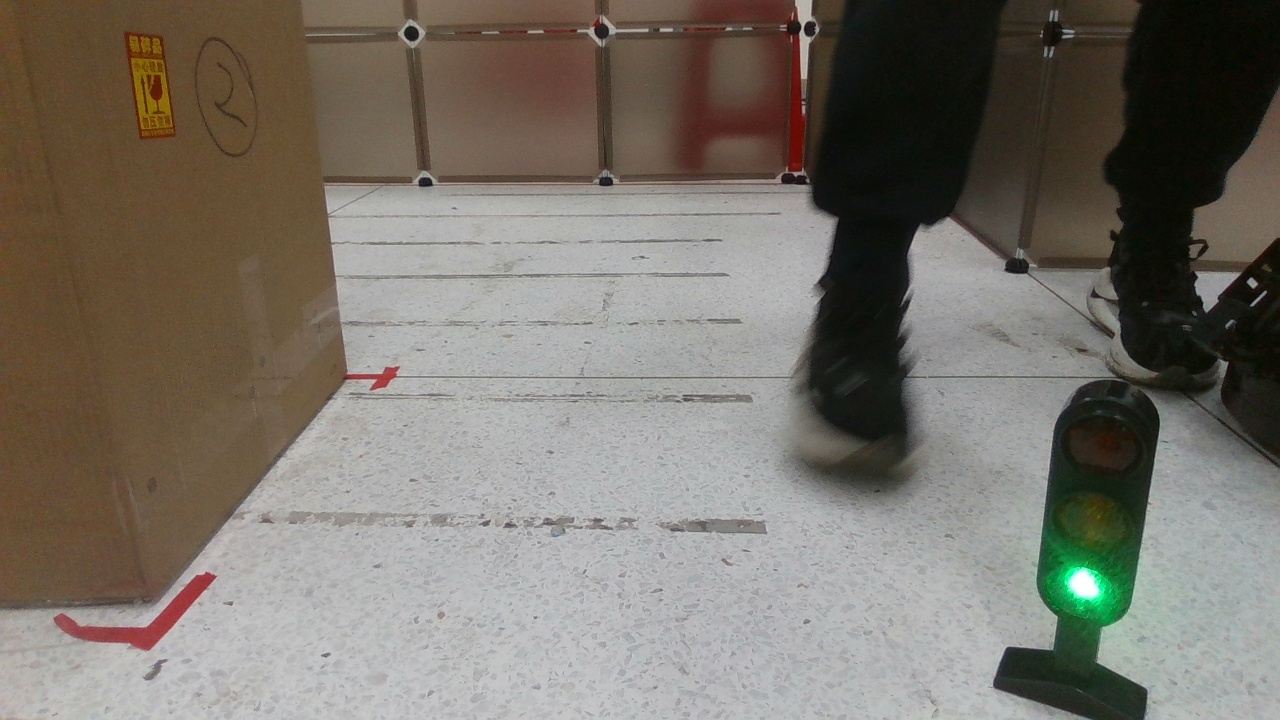Green traffic light: (994, 371, 1166, 717)
